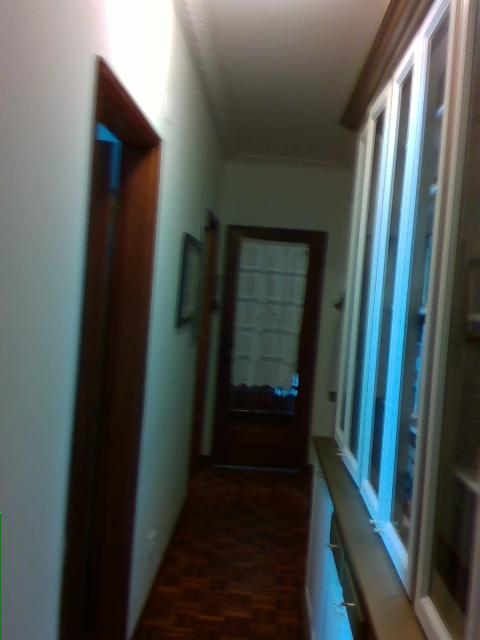closed_door: (206, 222, 317, 471)
